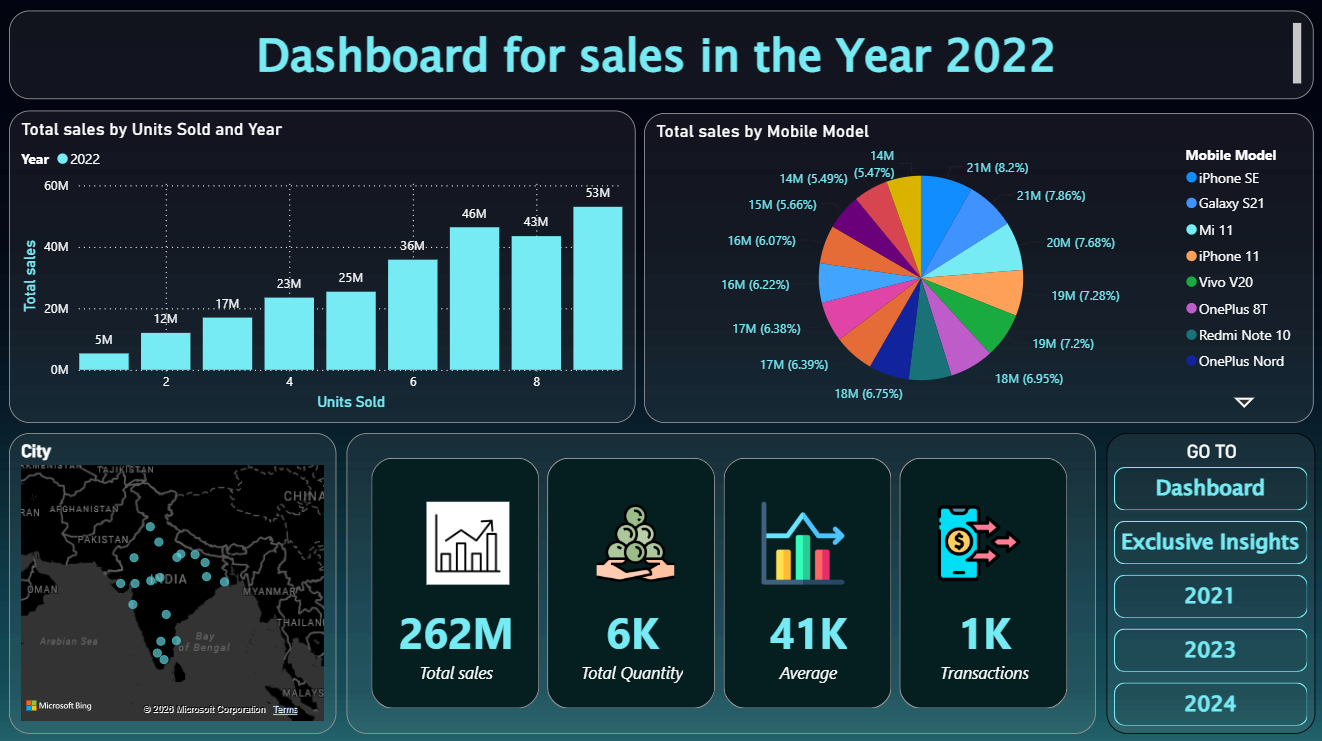

This screenshot's page, from the dashboard's own definition file:
{"tool":"powerbi","page":{"name":"2022","canvas":[1280,720],"ordinal":3},"visuals":[{"type":"textbox","box":[9.7,12.1,1259.5,85.7],"z":0},{"type":"columnChart","fields":{"Y":["Sales_data.Total sales"],"Category":["Sales_data.Units Sold"],"Series":["Sales_data.Date.Variation.Date Hierarchy.Year"]},"box":[9.7,108.6,604.4,301.6],"z":1000},{"type":"pieChart","fields":{"Category":["Sales_data.Mobile Model"],"Y":["Sales_data.Total sales"]},"box":[622.5,111,646.7,299.2],"z":2000},{"type":"map","fields":{"Category":["Sales_data.City"]},"box":[10,420,315.7,290],"z":3000},{"type":"cardVisual","fields":{"Data":["Sales_data.Total sales","Sales_data.Total Quantity","Sales_data.Average","Sales_data.Transactions"]},"box":[335.7,420,722.9,290],"z":4000},{"type":"pageNavigator","title":"GO TO","box":[1068.6,420,201.4,290],"z":5000},{"type":"image","box":[574.3,485.7,80,80],"z":6000},{"type":"image","box":[735.7,485.7,80,80],"z":7000},{"type":"image","box":[906,486.2,79.6,79.6],"z":8000},{"type":"image","box":[412.9,485.7,80,80],"z":9000},{"type":"image","box":[412.9,485.7,80,80],"z":10000}]}

Visuals, with their boxes in screenshot pixels (x1, y1, x2, y2), scaled from the page's 1280x720 canvas onto the 1322x741 screenshot:
textbox: [10,12,1311,101]
columnChart - Sales_data.Total sales x Sales_data.Units Sold: [10,112,634,422]
pieChart - Sales_data.Mobile Model x Sales_data.Total sales: [643,114,1311,422]
map - Sales_data.City: [10,432,336,731]
cardVisual - Sales_data.Total sales x Sales_data.Total Quantity: [347,432,1093,731]
"GO TO" pageNavigator: [1104,432,1312,731]
image: [593,500,676,582]
image: [760,500,842,582]
image: [936,500,1018,582]
image: [426,500,509,582]
image: [426,500,509,582]
